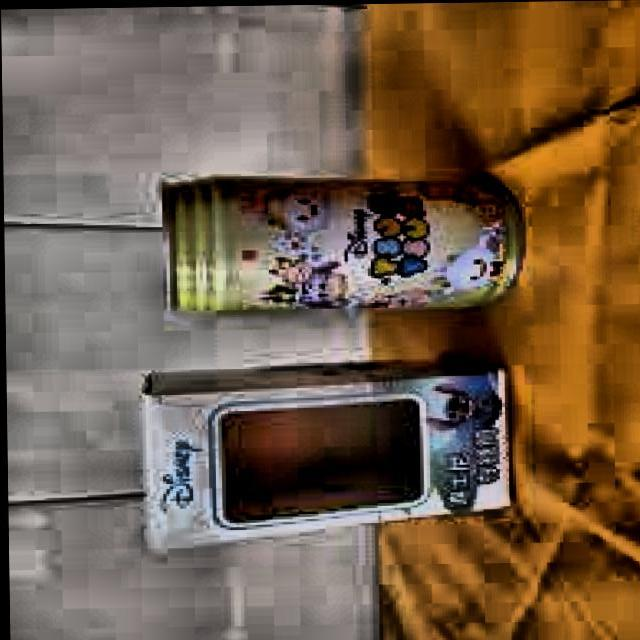Aluminum Can: (145, 166, 534, 321)
